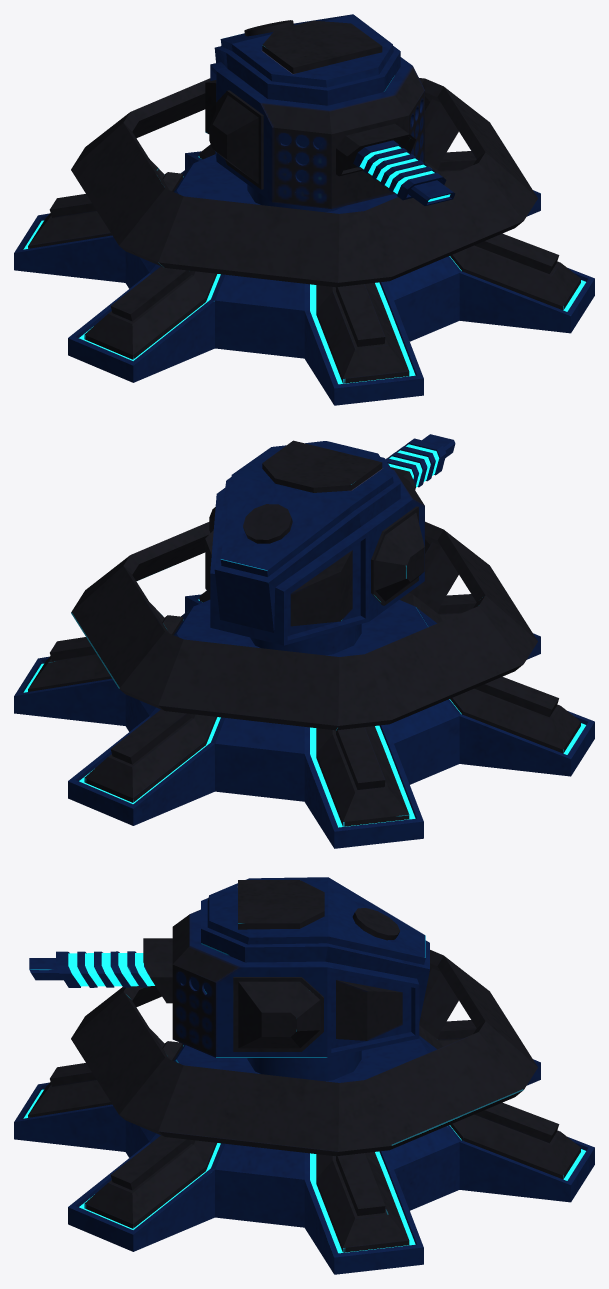
The model's file is uploads_files_2943979_Plasma_turret.fbx.
3 renders of one model, top to bottom at view 1: azimuth 30°, elevation 25°; view 2: azimuth 150°, elevation 25°; view 3: azimuth 270°, elevation 25°, orthographic.
Visible parts, largest first — view 1: Plasma_turret; view 2: Plasma_turret; view 3: Plasma_turret.
Boxes of the visible parts, left/top/right/bottom form: Plasma_turret: left=14, top=14, right=594, bottom=405; Plasma_turret: left=14, top=434, right=594, bottom=848; Plasma_turret: left=14, top=877, right=594, bottom=1274.
Bounding box in the file's own units: 607 × 288 × 607.
